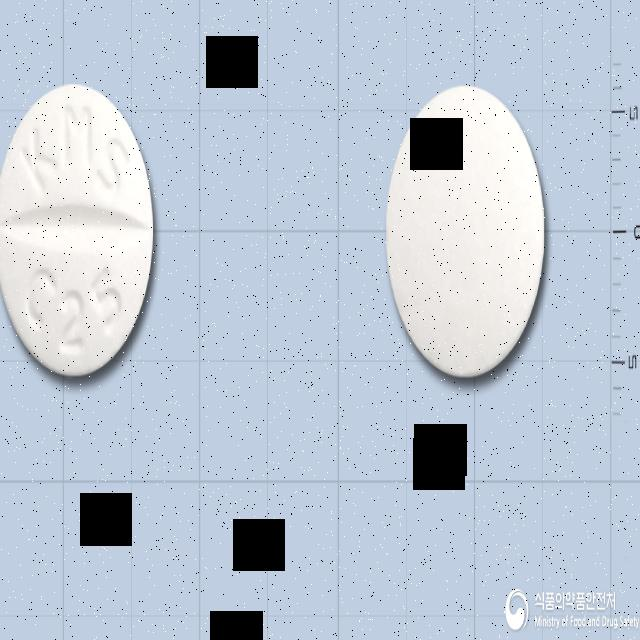Cyspec: (0, 81, 154, 378)
